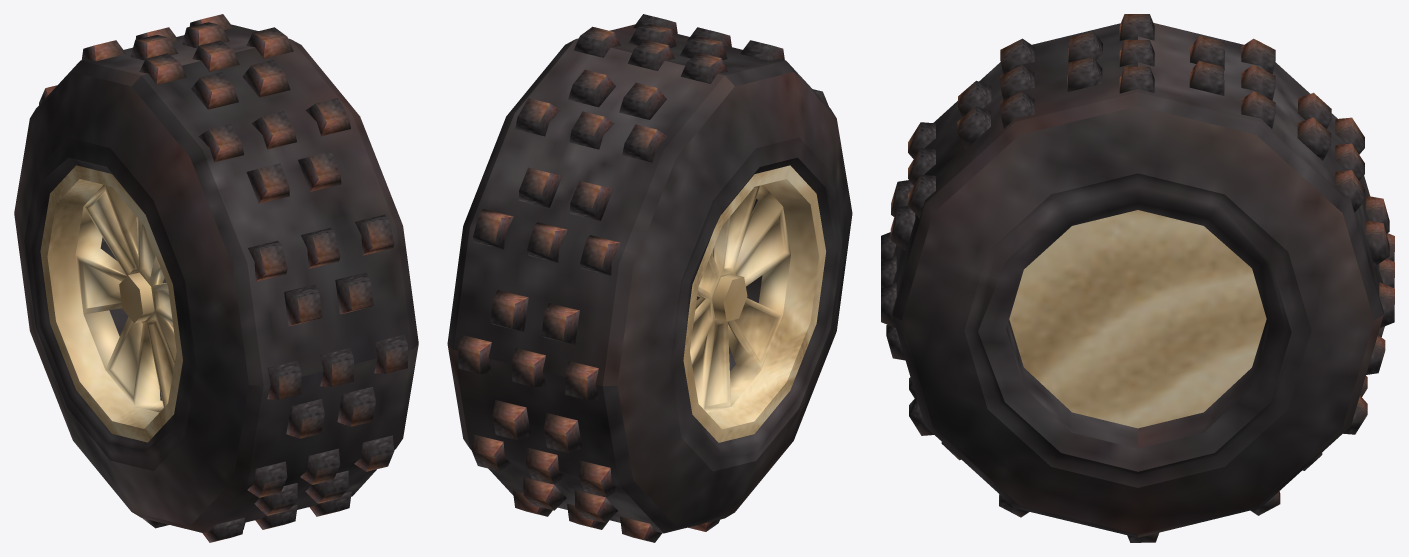
The model's file is Coche_Bueno_01_Rueda_Der.Del.fbx.
The picture shows the model from 3 angles, left to right: view 1: azimuth 30°, elevation 25°; view 2: azimuth 150°, elevation 25°; view 3: azimuth 270°, elevation 25°; orthographic projection.
Visible parts, largest first — view 1: Ruerdas_Del_Der; view 2: Ruerdas_Del_Der; view 3: Ruerdas_Del_Der.
Boxes of the visible parts, bbox=[...] form: Ruerdas_Del_Der: bbox=[14, 14, 418, 542]; Ruerdas_Del_Der: bbox=[447, 14, 852, 542]; Ruerdas_Del_Der: bbox=[881, 14, 1394, 542].
Bounding box in the file's own units: 128 × 257 × 257.
